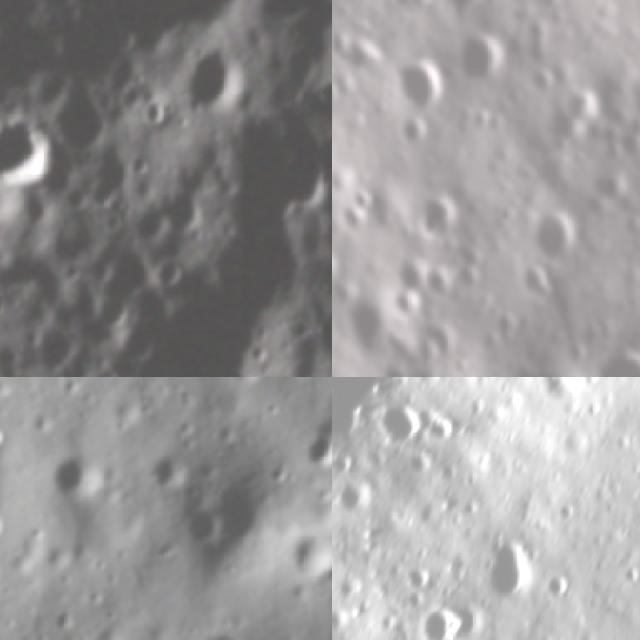crater: (4, 0, 247, 50), (176, 44, 252, 124), (482, 526, 544, 612), (0, 109, 59, 193), (336, 288, 400, 357), (94, 241, 154, 306), (524, 205, 588, 265), (414, 184, 466, 249), (456, 27, 511, 84), (376, 400, 429, 456), (398, 59, 449, 114), (158, 182, 207, 236), (338, 30, 385, 84), (413, 599, 473, 640), (253, 0, 324, 33), (304, 198, 332, 276), (332, 475, 379, 521), (305, 294, 332, 366), (54, 456, 108, 492), (534, 377, 590, 411), (590, 340, 640, 377), (507, 354, 587, 377), (309, 121, 332, 199), (424, 414, 466, 449), (403, 447, 442, 484), (392, 112, 428, 152), (299, 539, 332, 581), (544, 568, 578, 608), (157, 244, 185, 291), (137, 93, 171, 131), (190, 506, 224, 544), (407, 563, 439, 600), (435, 0, 492, 18), (305, 436, 332, 468)
